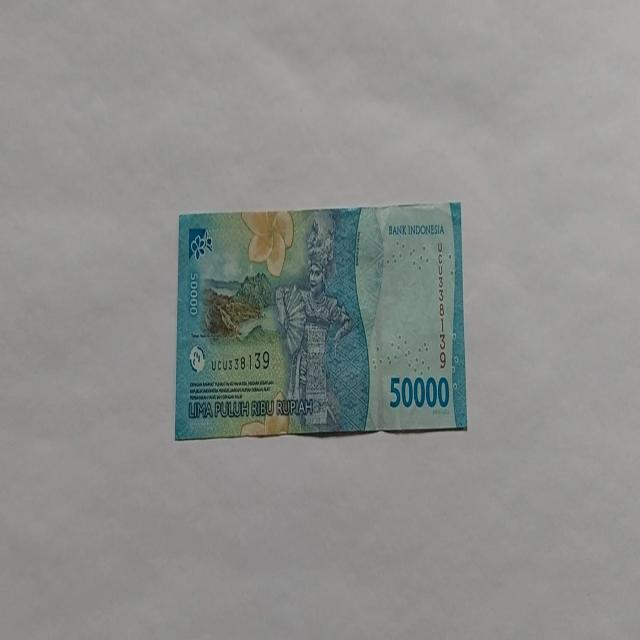lima puluh ribu rupiah: (174, 201, 468, 441)
